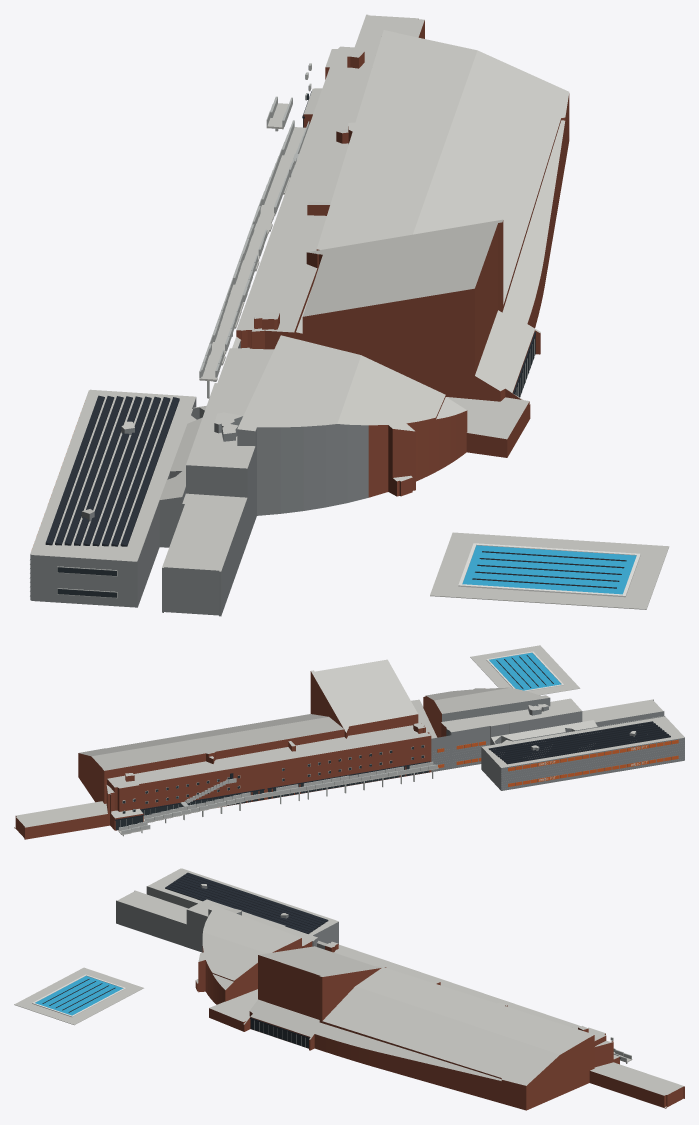
The model's file is sloterparkbad.glb.
The picture shows the model from 3 angles, top to bottom: view 1: azimuth 30°, elevation 25°; view 2: azimuth 150°, elevation 25°; view 3: azimuth 270°, elevation 25°; orthographic projection. The views are drawn at different scales.
Parts seen in each view (by area): view 1: sloterparkbad; view 2: sloterparkbad; view 3: sloterparkbad.
Part boxes in pixels (x1=…): sloterparkbad: x1=29, y1=14, x2=669, y2=616; sloterparkbad: x1=14, y1=645, x2=684, y2=839; sloterparkbad: x1=14, y1=868, x2=684, y2=1110.
Bounding box in the file's own units: 152 × 21.77 × 197.
